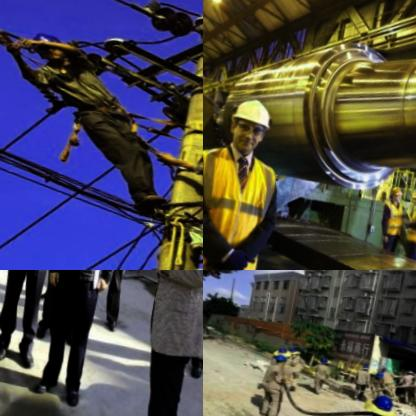helmet: (224, 91, 278, 160), (23, 26, 73, 65), (367, 390, 396, 415), (385, 181, 404, 204), (272, 350, 288, 367), (406, 186, 416, 205), (317, 353, 331, 366), (277, 343, 289, 356), (358, 359, 371, 371), (375, 368, 384, 378)
